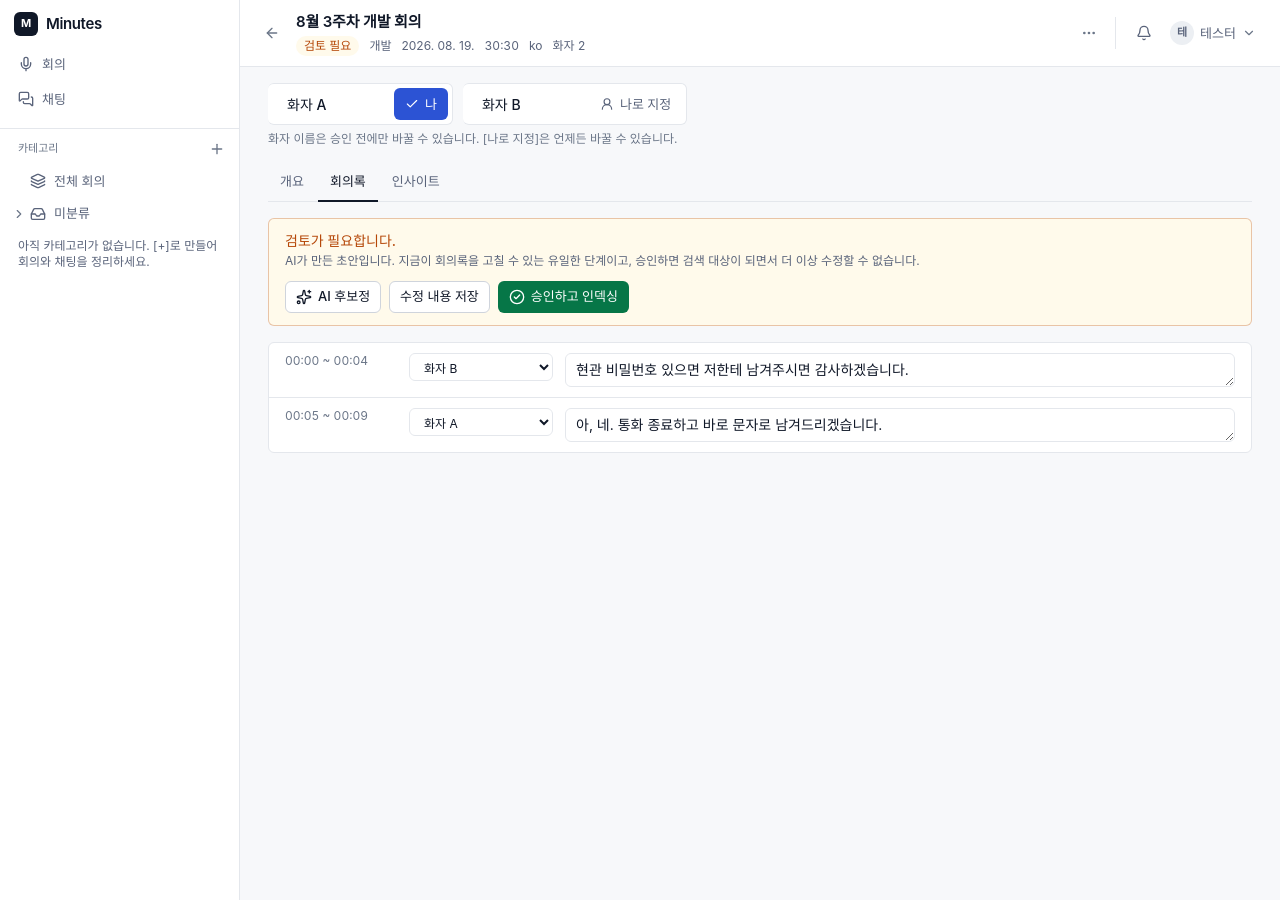
Scenario: 회의록 검토 (HITL) › 제안마다 왜 그렇게 들렸는지가 함께 나온다
Click the button "AI 후보정". click: [333, 297]
box: left=285, top=281, right=381, bottom=313
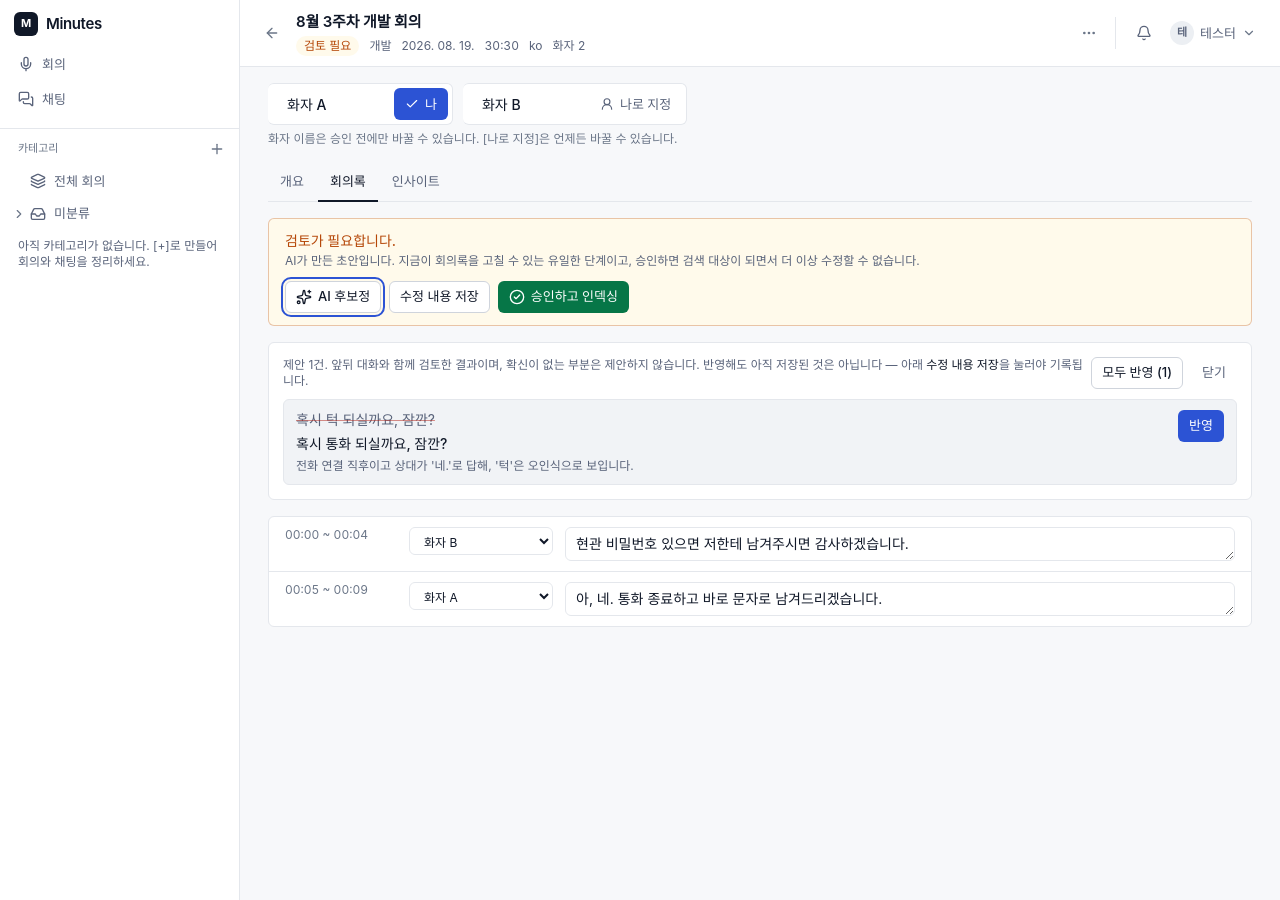
Now the text "혹시 통화 되실까요, 잠깐?" is shown, box left=296, top=435, right=448, bottom=452
Now the text "전화 연결 직후이고 상대가 '네.'로 답해, '턱'은 오인식으로 보입니다." is shown, box left=296, top=458, right=634, bottom=473
